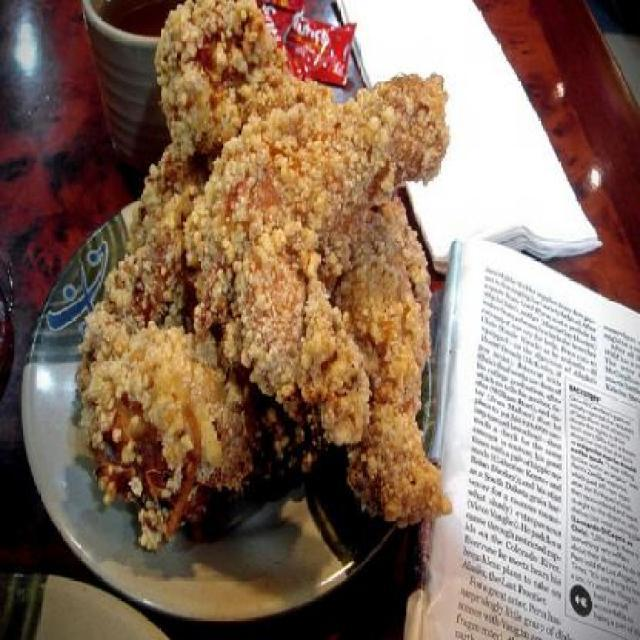Deep fried chicken wing: (85, 20, 442, 543)
